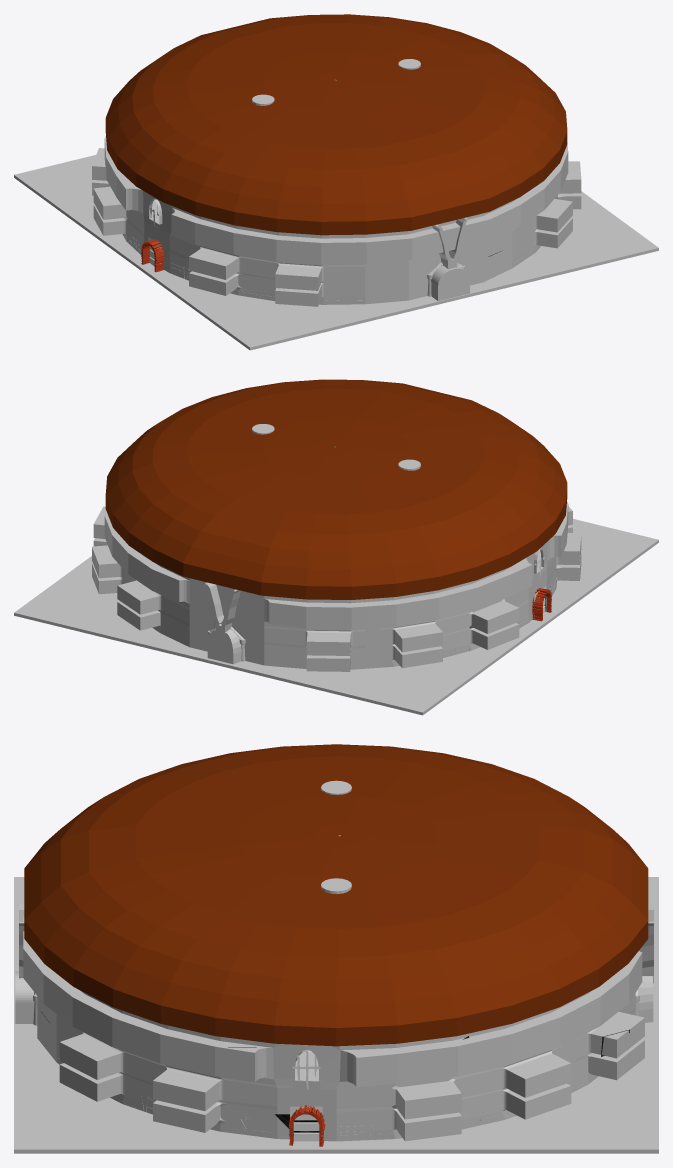
The model's file is Burial_Chambersff1.fbx.
3 views of the same model, one above another, from view 1: azimuth 30°, elevation 25°; view 2: azimuth 150°, elevation 25°; view 3: azimuth 270°, elevation 25° (orthographic). The views are drawn at different scales.
Visible parts, largest first — view 1: Arena_geo, Floor_geo, Gates_Back_geo, Brick_L_geo; view 2: Arena_geo, Floor_geo, Gates_Front_geo, Brick_L_geo; view 3: Arena_geo, Floor_geo, Gates_Front_geo, Door_R_geo.
Boxes of the visible parts, x1,y1,x2,y2 form: Arena_geo: [92, 14, 581, 306]; Floor_geo: [14, 155, 658, 350]; Gates_Back_geo: [427, 217, 467, 296]; Brick_L_geo: [141, 239, 164, 272]; Arena_geo: [92, 379, 581, 671]; Floor_geo: [14, 519, 658, 715]; Gates_Front_geo: [205, 582, 245, 661]; Brick_L_geo: [532, 588, 551, 621]; Arena_geo: [15, 744, 653, 1141]; Floor_geo: [14, 877, 658, 1153]; Gates_Front_geo: [635, 902, 653, 1016]; Door_R_geo: [290, 1106, 322, 1141].
Size of the model in its own units: 4606 by 1447 by 4528.
